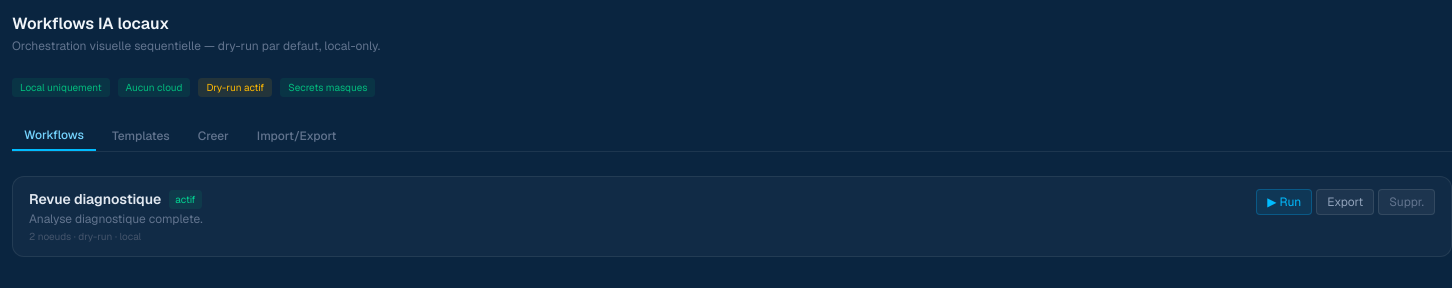
Test: WorkflowsPanel › bascule vers l'onglet Templates
The image size is (1452, 288).
Click the button "Templates".
click(141, 136)  # box [100,121,182,151]
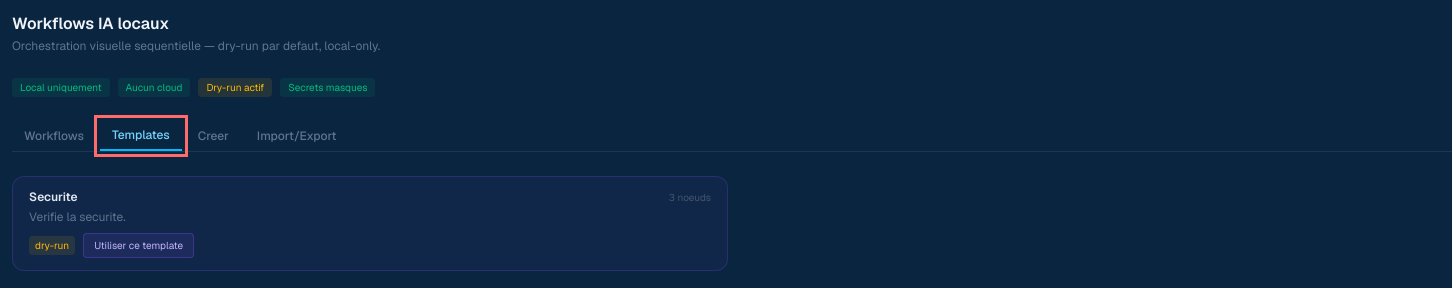
Result: the text "Securite" is shown at [29,189,78,205]
